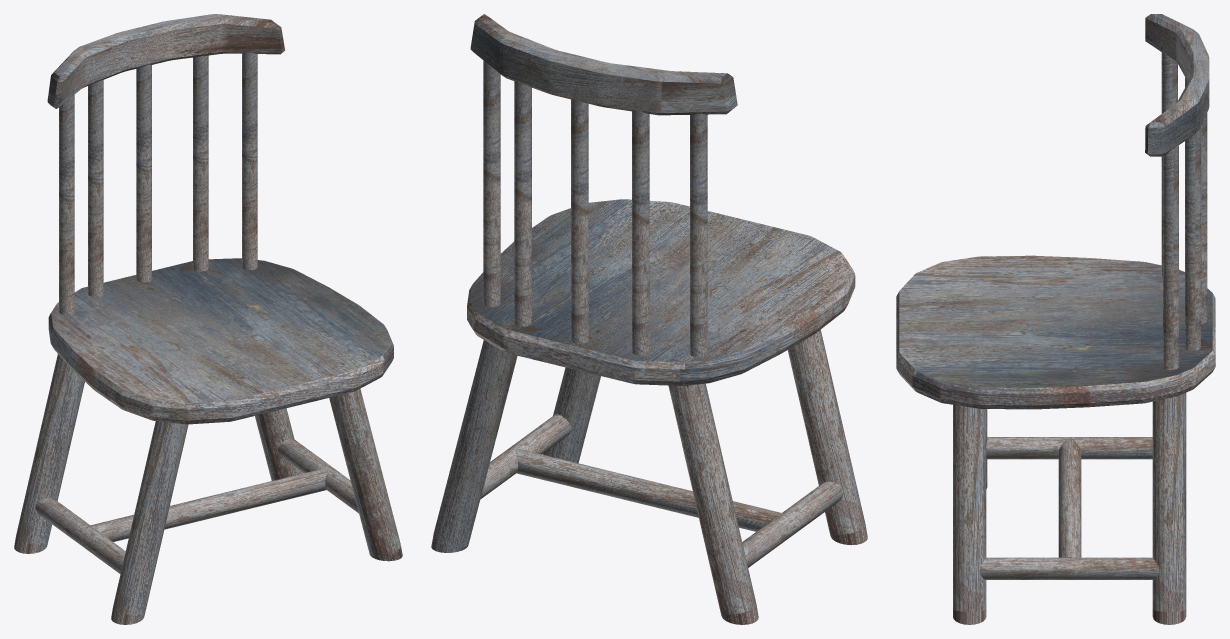
Rendered from CadeiraMadeiraV2.fbx.
The picture shows the model from 3 angles, left to right: view 1: azimuth 30°, elevation 25°; view 2: azimuth 150°, elevation 25°; view 3: azimuth 270°, elevation 25°; orthographic projection. The views are drawn at different scales.
Parts seen in each view (by area): view 1: pCube1, pCube2, pCylinder2, pCylinder8, pCylinder10, pCylinder12, pCylinder14, pCylinder17, pCylinder15, pCylinder16, pCylinder13, pCylinder5 (+2 smaller); view 2: pCube1, pCube2, pCylinder8, pCylinder9, pCylinder2, pCylinder12, pCylinder16, pCylinder13, pCylinder15, pCylinder17, pCylinder14, pCylinder5 (+2 smaller); view 3: pCube1, pCylinder9, pCylinder10, pCube2, pCylinder11, pCylinder14, pCylinder5, pCylinder15, pCylinder12, pCylinder17, pCylinder13.
Boxes of the visible parts, bbox=[...] form: pCube1: bbox=[48, 258, 393, 424]; pCube2: bbox=[47, 14, 284, 108]; pCylinder2: bbox=[111, 421, 188, 624]; pCylinder8: bbox=[14, 354, 84, 553]; pCylinder10: bbox=[329, 388, 402, 561]; pCylinder12: bbox=[86, 468, 327, 541]; pCylinder14: bbox=[242, 52, 257, 269]; pCylinder17: bbox=[136, 64, 151, 282]; pCylinder15: bbox=[193, 55, 208, 271]; pCylinder16: bbox=[88, 80, 103, 297]; pCylinder13: bbox=[59, 65, 74, 315]; pCylinder5: bbox=[35, 497, 125, 573]; pCube1: bbox=[467, 199, 855, 385]; pCube2: bbox=[470, 14, 737, 115]; pCylinder8: bbox=[668, 383, 758, 624]; pCylinder9: bbox=[431, 340, 517, 552]; pCylinder2: bbox=[787, 329, 867, 545]; pCylinder12: bbox=[515, 449, 786, 531]; pCylinder16: bbox=[632, 110, 649, 355]; pCylinder13: bbox=[690, 81, 707, 357]; pCylinder15: bbox=[514, 80, 531, 326]; pCylinder17: bbox=[571, 99, 588, 343]; pCylinder14: bbox=[483, 60, 500, 307]; pCylinder5: bbox=[742, 481, 843, 567]; pCube1: bbox=[896, 255, 1215, 409]; pCylinder9: bbox=[1152, 393, 1186, 624]; pCylinder10: bbox=[953, 405, 986, 624]; pCube2: bbox=[1145, 14, 1209, 156]; pCylinder11: bbox=[979, 557, 1159, 579]; pCylinder14: bbox=[1163, 145, 1178, 369]; pCylinder5: bbox=[986, 437, 1152, 459]; pCylinder15: bbox=[1185, 127, 1200, 350]; pCylinder12: bbox=[1058, 437, 1081, 557]; pCylinder17: bbox=[1201, 113, 1207, 323]; pCylinder13: bbox=[1161, 52, 1177, 276].
Bounding box in the file's own units: 2.77 × 4.39 × 2.6.
1 material, 1 textured.
